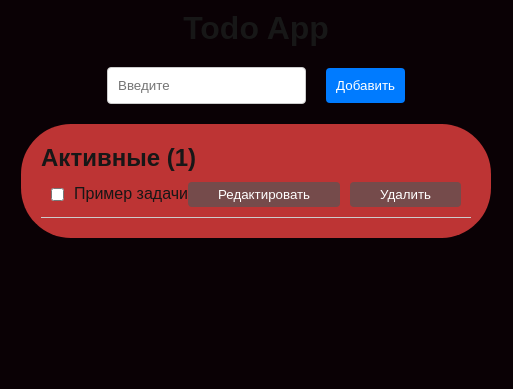
Test: Todo App › should toggle todo completion
# Создаём задачу
Step 1. Type "Тестовая задача" into the field with placeholder "Введите" → (207, 86), box left=107, top=67, right=306, bottom=104
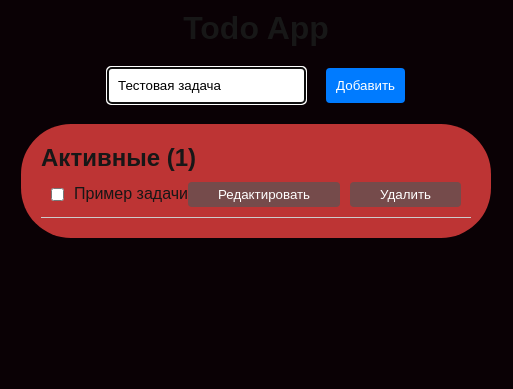
Step 2. Click the submit button → click(366, 86), box left=326, top=68, right=405, bottom=103
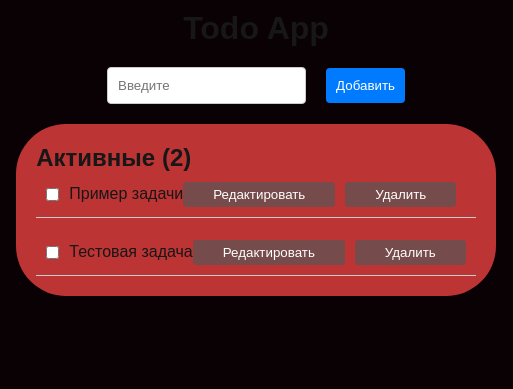
# Находим чекбокс рядом с задачей и кликаем
Step 3. Click the checkbox next to "Тестовая задача" → click(53, 253), box left=46, top=246, right=59, bottom=259
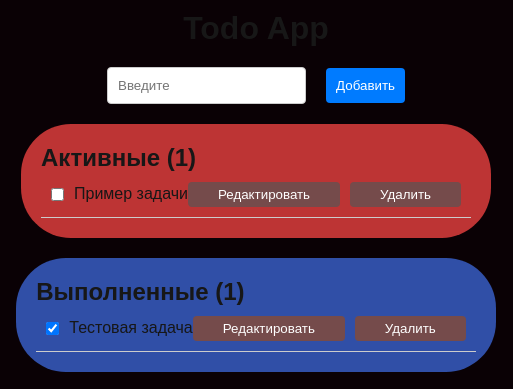
Check: the heading "Выполненные (1)" is shown, box left=36, top=278, right=245, bottom=305
